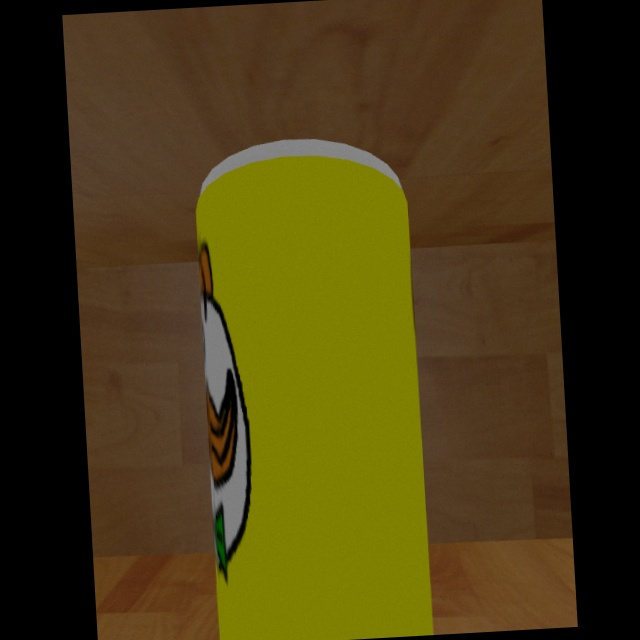chipsdose_gelb: (194, 139, 434, 640)
